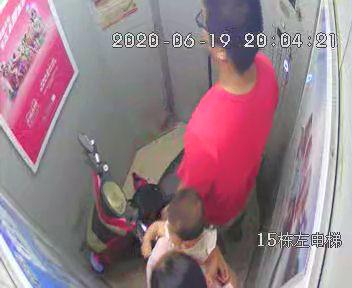Electric-bicycle: (77, 132, 185, 261)
